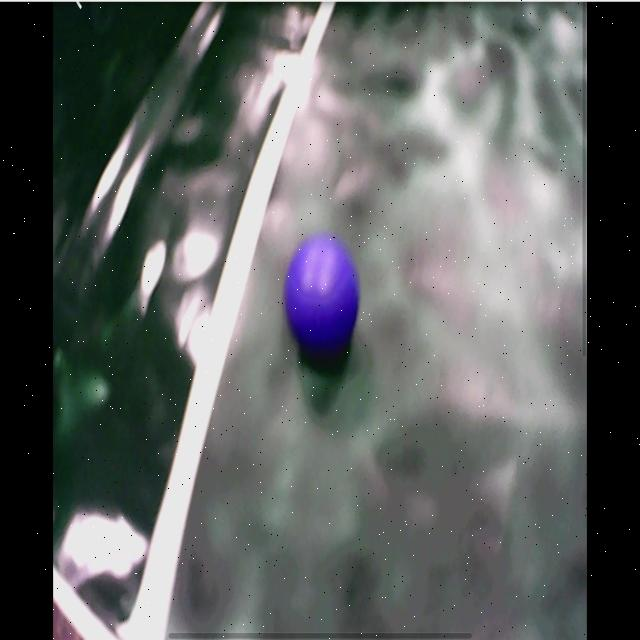ball: (285, 236, 361, 355)
